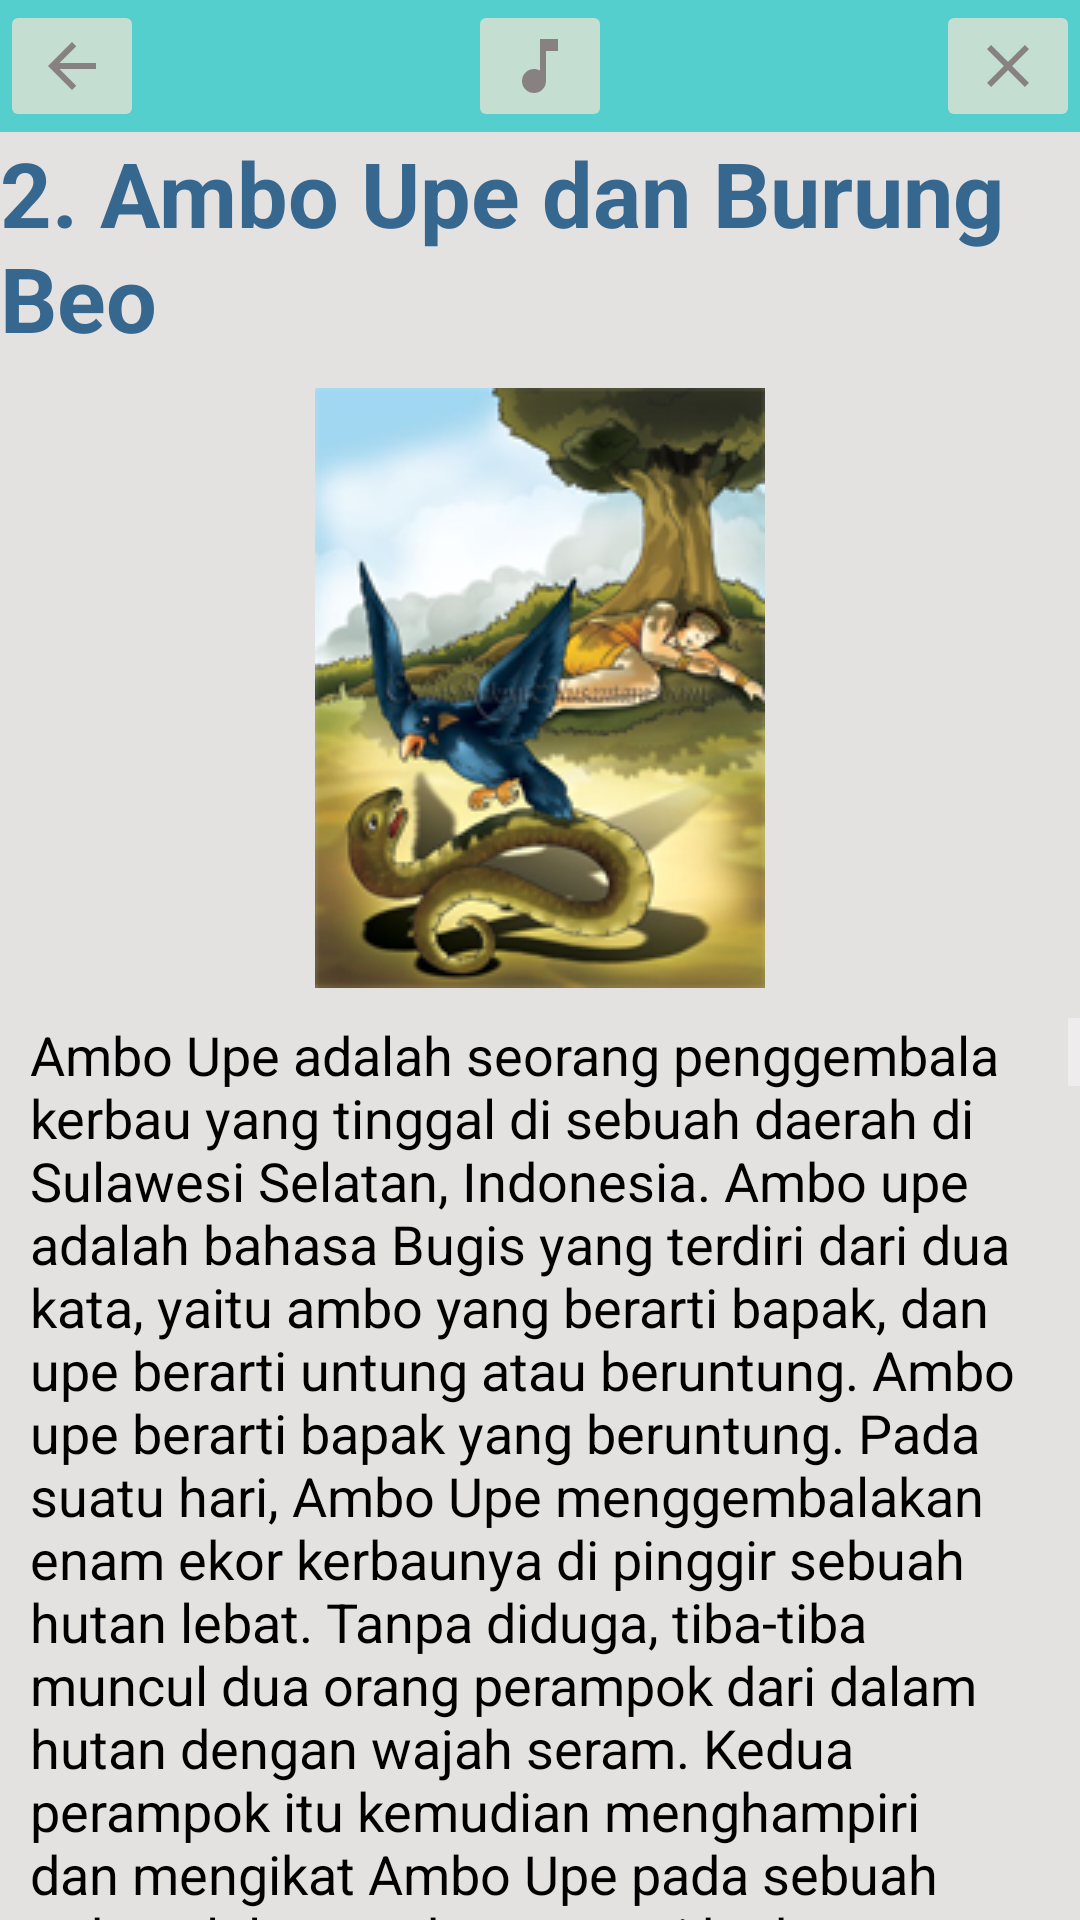

Where icons sit on this 1080 × 1920 app screen, as [left=x1, top=y1, right=x2, bottom=y2]:
arrow back: [left=12, top=18, right=132, bottom=114]
close: [left=948, top=18, right=1068, bottom=114]
music note: [left=480, top=18, right=600, bottom=114]
